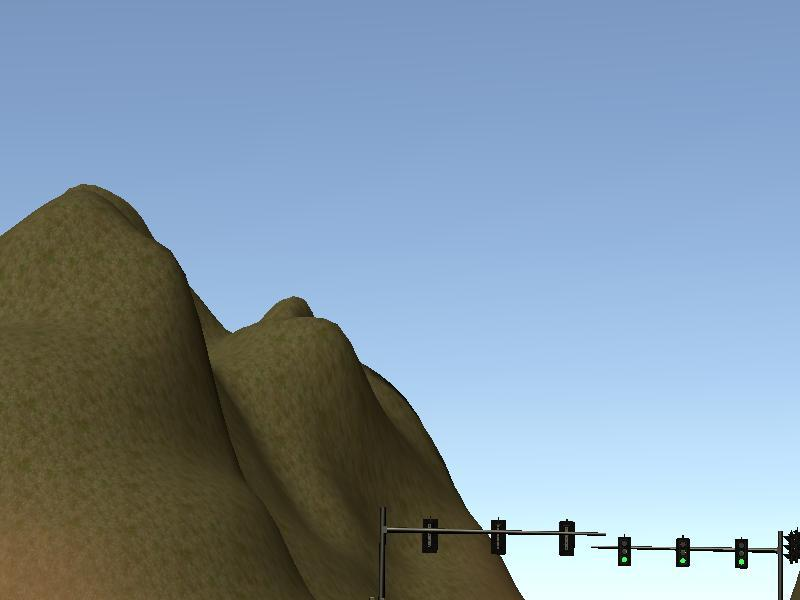Green: (618, 537, 632, 567), (735, 539, 749, 569), (676, 538, 690, 568)
